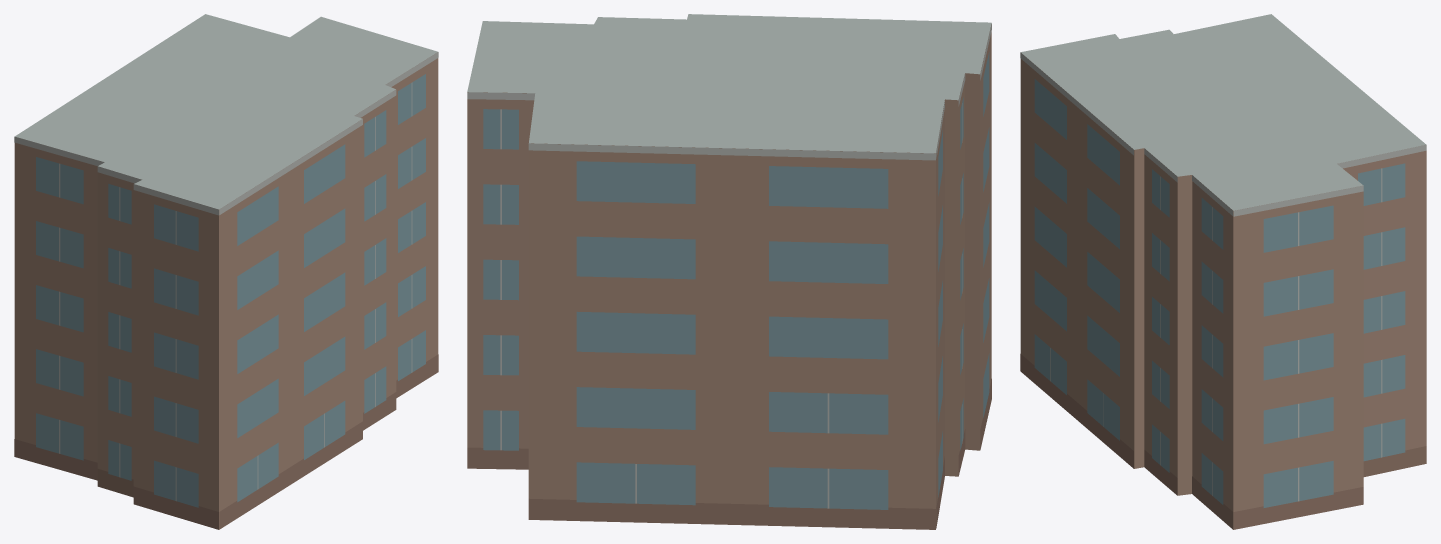
File: survey-upis-32660697.glb
3 views of the same model, side by side, from view 1: azimuth 30°, elevation 25°; view 2: azimuth 150°, elevation 25°; view 3: azimuth 270°, elevation 25° (orthographic). The views are drawn at different scales.
Visible parts, largest first — view 1: survey-upis-32660697.tmp; view 2: survey-upis-32660697.tmp; view 3: survey-upis-32660697.tmp.
Boxes of the visible parts, x1,y1,x2,y2 form: survey-upis-32660697.tmp: (14,14,438,529); survey-upis-32660697.tmp: (467,14,991,529); survey-upis-32660697.tmp: (1020,14,1426,529).
Size of the model in its own units: 17.2 by 13 by 15.
